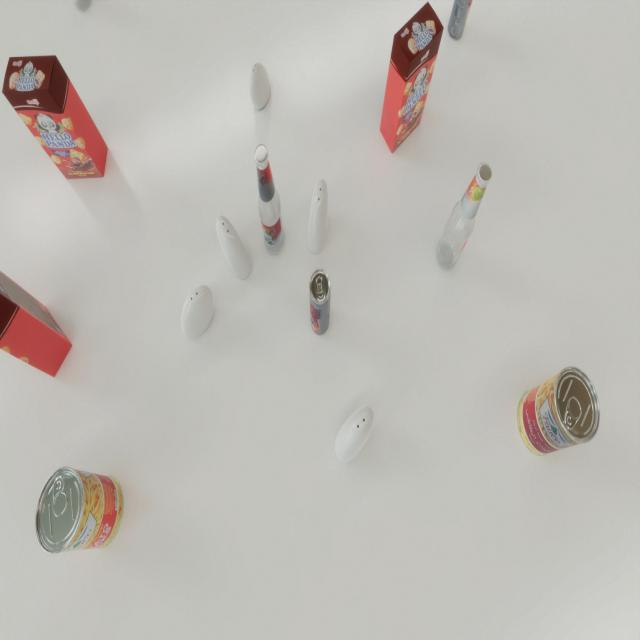Bottle: (436, 162, 492, 271), (254, 144, 286, 256)
HelloPanda: (2, 55, 108, 179), (379, 2, 444, 154)
Potato_sticks: (36, 467, 124, 554), (517, 366, 600, 456)
Rita_zero_sugar: (309, 269, 331, 335)
Salt: (216, 215, 251, 279), (335, 406, 374, 462), (181, 284, 214, 340), (308, 178, 328, 254), (248, 61, 271, 109)
